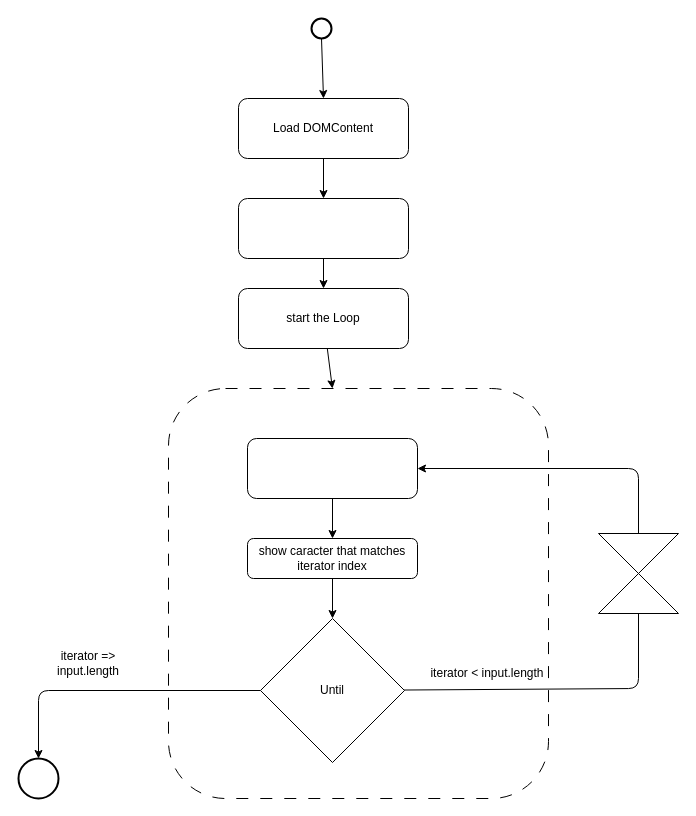
Image size: 696x816. Some labels were removed from this diagram. Here are the shapes that lost their labels. From the top down, the centre of each, then its label:
At pixel 323 228: "Prepare the elements for the loop".
At pixel 332 468: "iterator++;".
